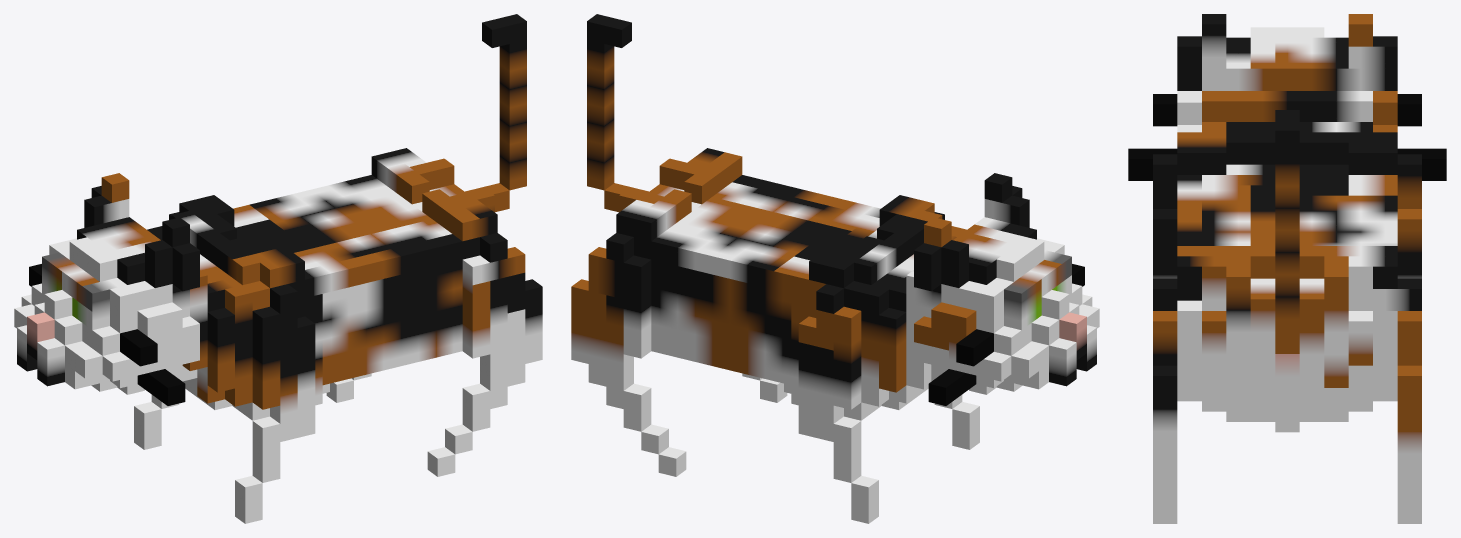
File: Cat2.dae
The picture shows the model from 3 angles, left to right: view 1: azimuth 30°, elevation 25°; view 2: azimuth 150°, elevation 25°; view 3: azimuth 270°, elevation 25°; orthographic projection. The views are drawn at different scales.
Parts seen in each view (by area): view 1: Matrix; view 2: Matrix; view 3: Matrix.
Part boxes in pixels (box(x1,y1,x2,y2)): Matrix: box(14, 14, 542, 523); Matrix: box(571, 14, 1099, 523); Matrix: box(1128, 14, 1446, 523).
Bounding box in the file's own units: 28 × 21 × 13.
Materials: 1 (1 with a texture image).
